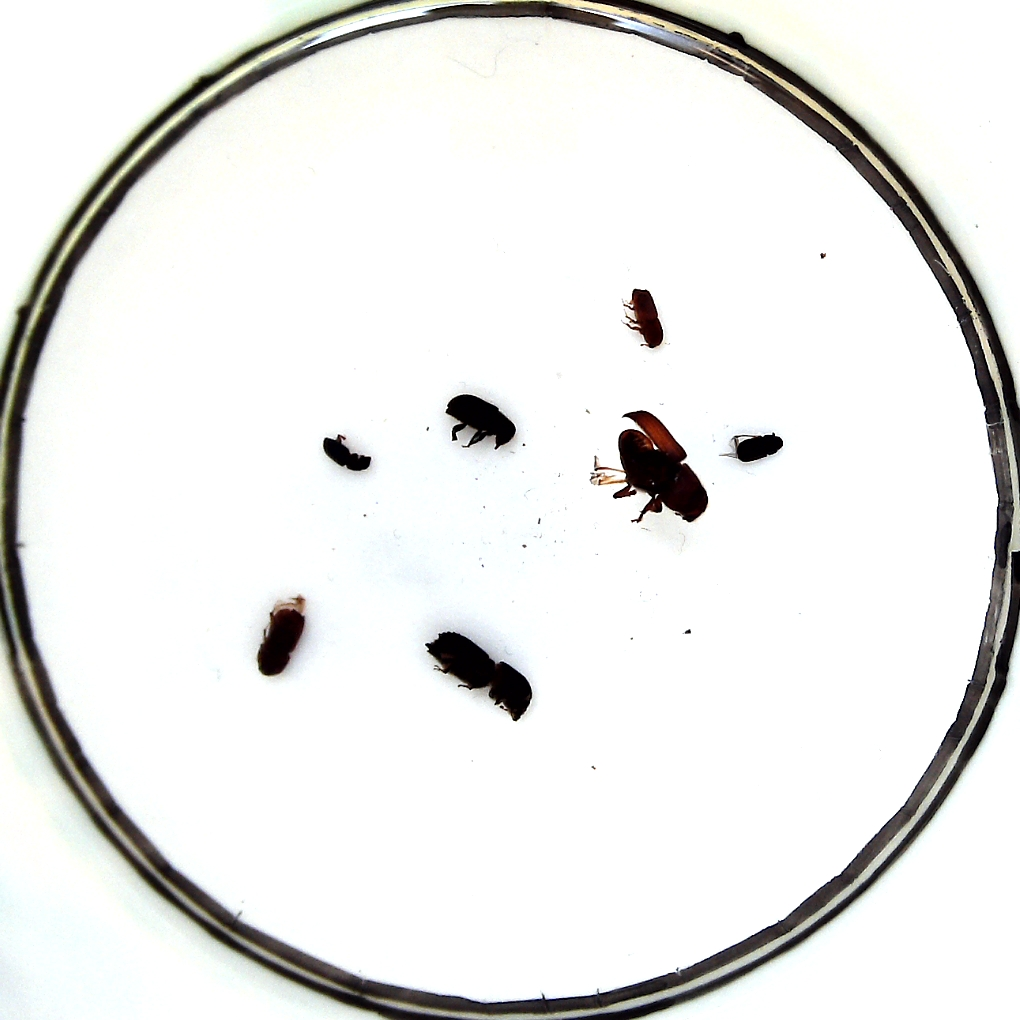Boerner: (427, 634, 533, 724)
Leconte: (613, 412, 709, 528)
Linnaeus: (255, 606, 305, 679)
acuminatus: (628, 290, 667, 351)
armandi: (446, 388, 511, 451)
coleoptera: (321, 433, 372, 475), (733, 433, 782, 463)
